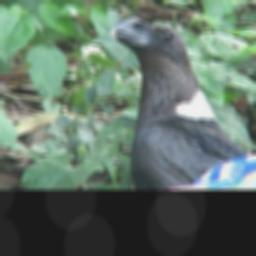Crow: (107, 18, 256, 188)
